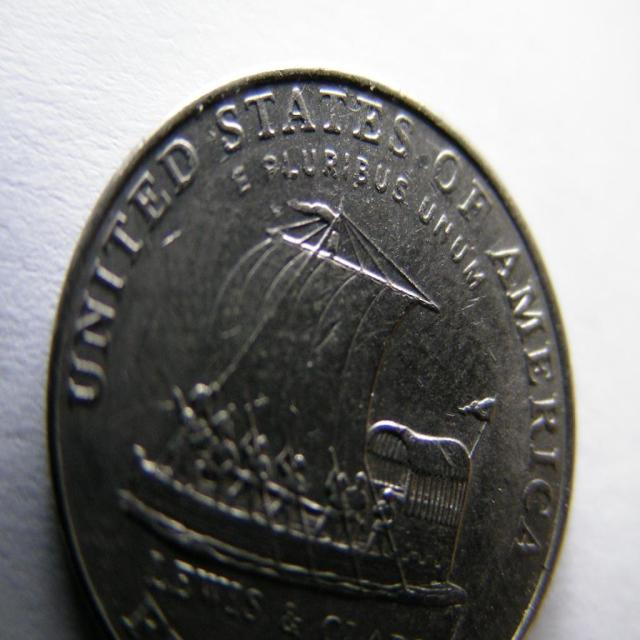Coin: (48, 64, 578, 639)
